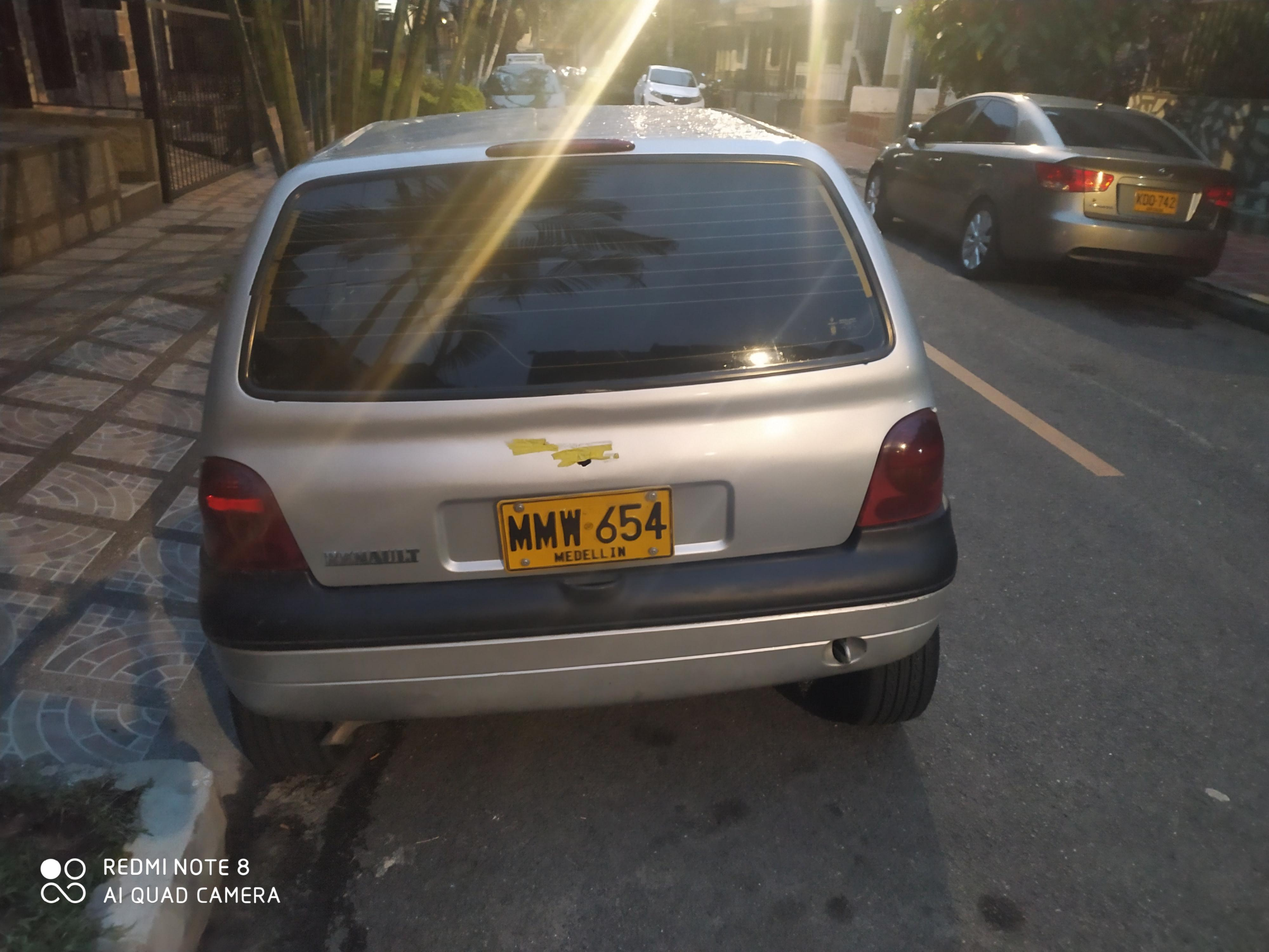placa: (483, 478, 681, 578)
